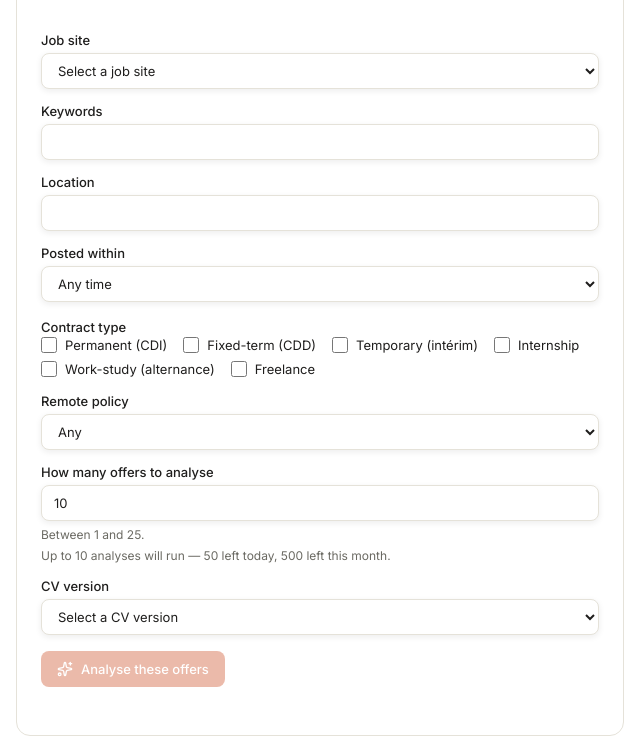
Test: AnalyseSeveralOffersPage › shows an all-failed message when the run finished with no analyses
(page scrolled)
Select "Default CV — Converted" in the dropdown labelled "CV version" at point(320, 617), box [41,599,599,635]
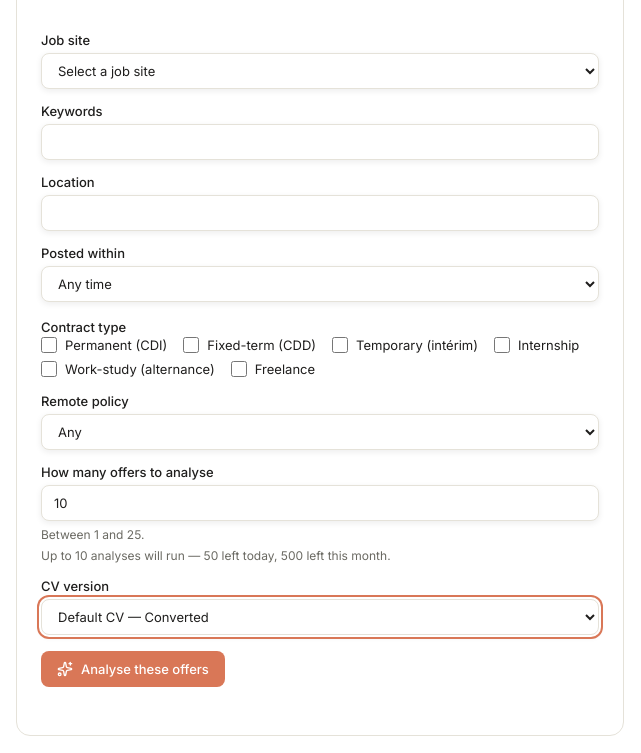
Select "France Travail — recommended" in the dropdown labelled "Job site" at point(320, 71), box [41,53,599,89]
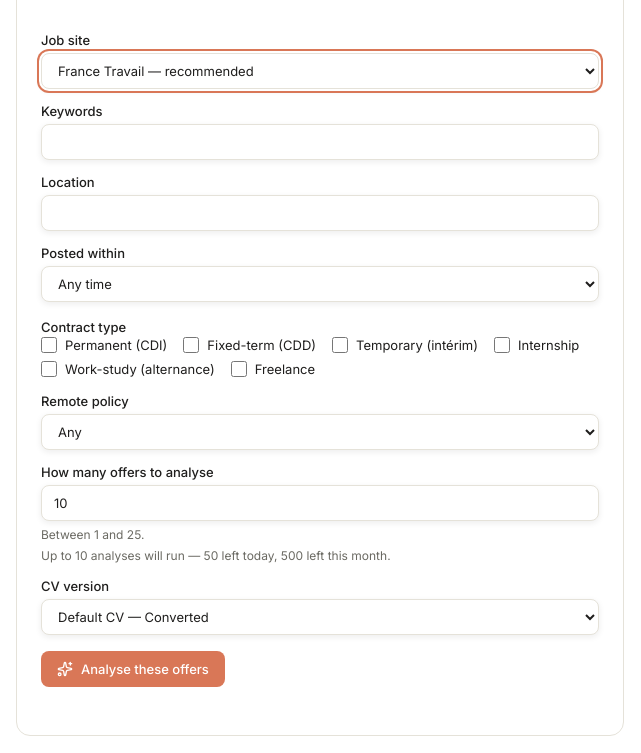
Click the button "Analyse these offers".
click(133, 669)  # box [41,651,225,687]
(page scrolled)
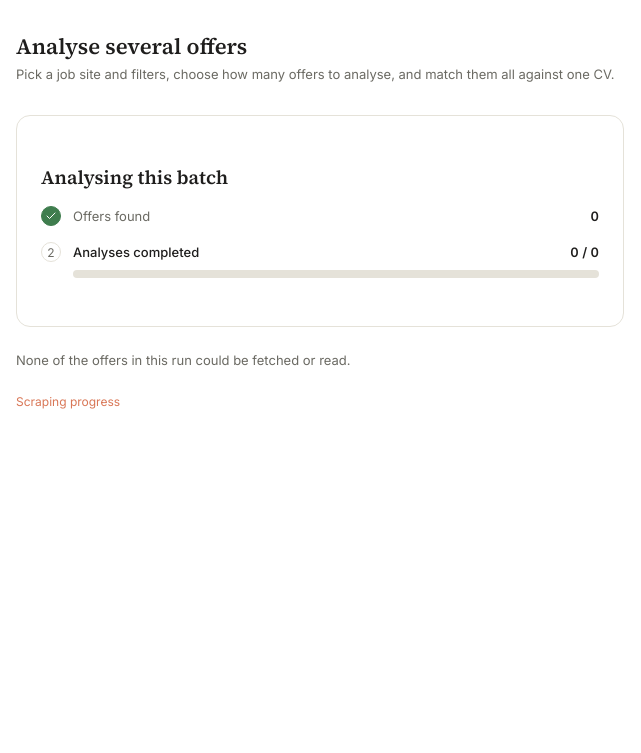
Expected: the text "None of the offers in this run could be fetched or read." is shown, [16,352,350,368]
